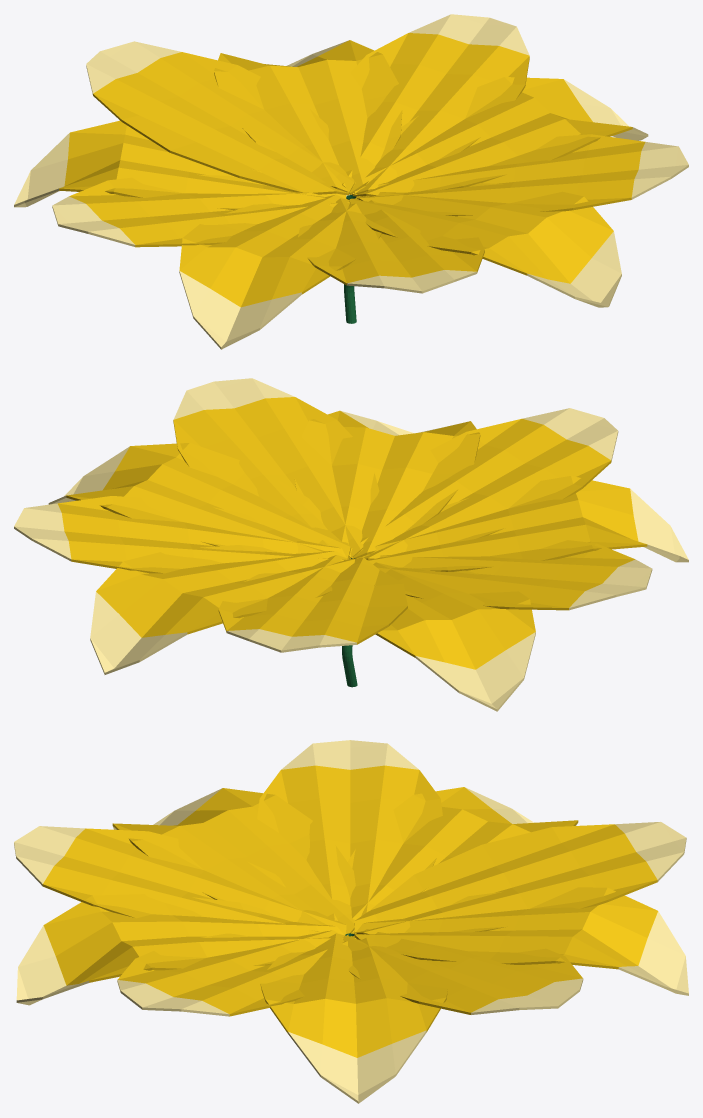
The model's file is Flower_6.fbx.
The picture shows the model from 3 angles, top to bottom: view 1: azimuth 30°, elevation 25°; view 2: azimuth 150°, elevation 25°; view 3: azimuth 270°, elevation 25°; orthographic projection. The views are drawn at different scales.
Visible parts, largest first — view 1: Flower_6; view 2: Flower_6; view 3: Flower_6.
Part boxes in pixels (x1,y1,x2,y2): Flower_6: [14, 14, 688, 349]; Flower_6: [14, 378, 688, 711]; Flower_6: [14, 740, 688, 1103].
Size of the model in its own units: 658 by 190 by 628.
